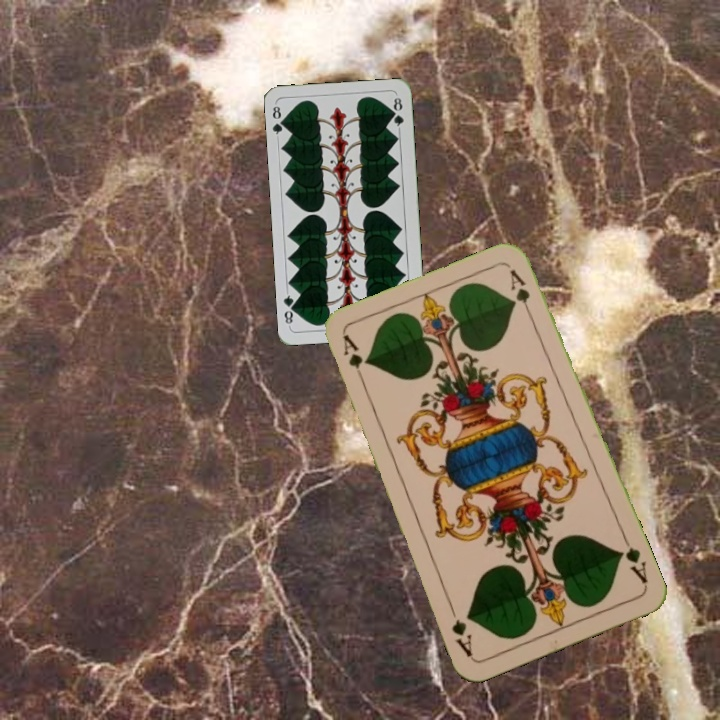G8: (268, 100, 288, 141)
GA: (614, 532, 651, 586), (339, 331, 368, 389)
